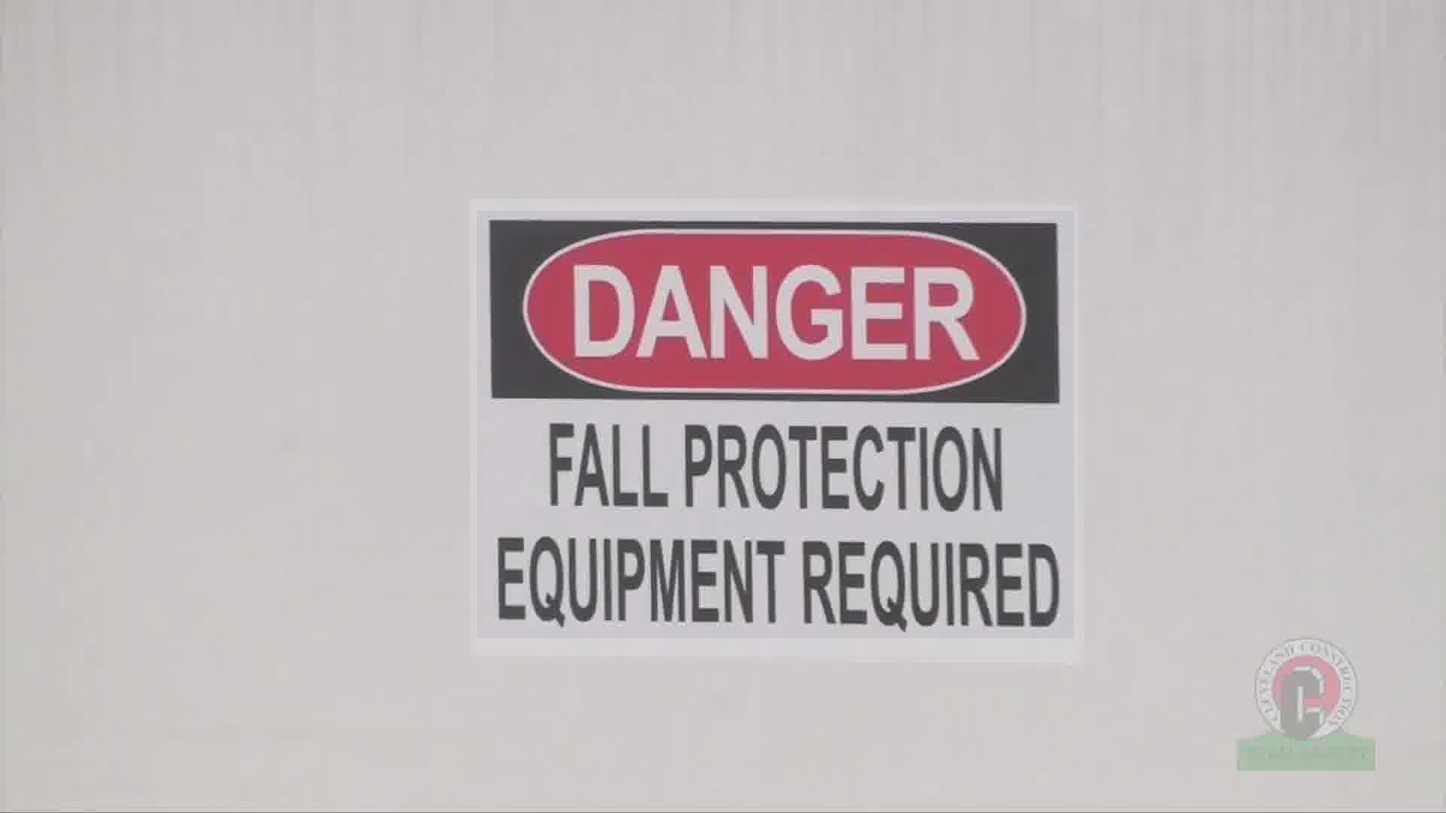safety_signage: (477, 211, 1074, 638)
